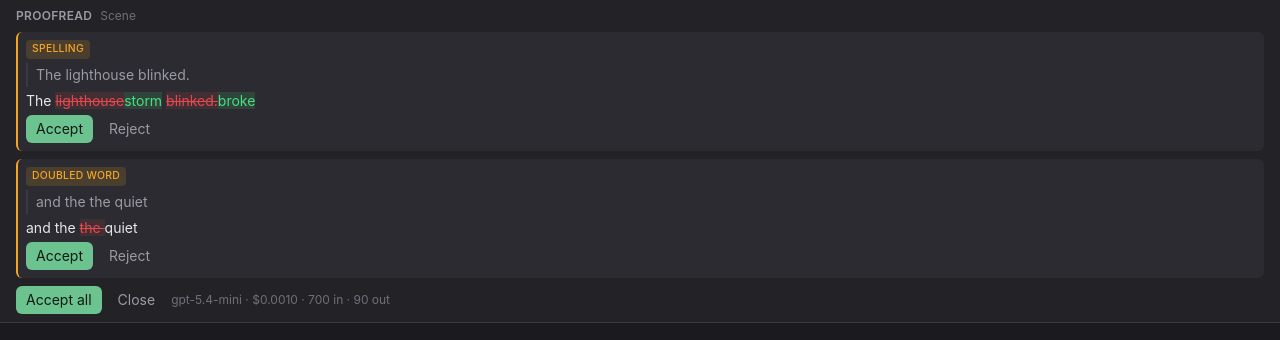
Test: ProofreadPanel (F-14.12) › marks a fix stale when its passage is gone
The image size is (1280, 340).
Click the button with test id "proofread-accept": (60,129) [26,115,93,143]
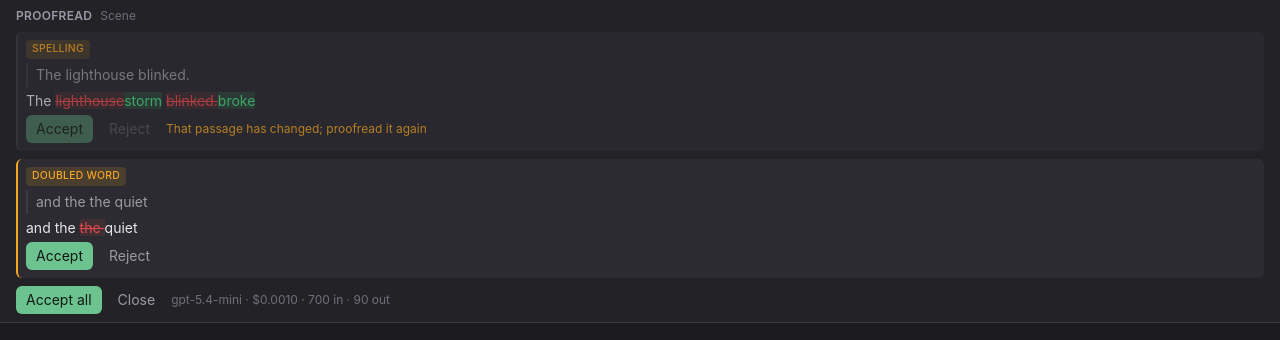
Expected: the text with test id "proofread-stale" reads "That passage has changed; proofread it again", [166,121,427,136]
Expected: the button with test id "proofread-accept" is disabled, [26,115,93,143]
